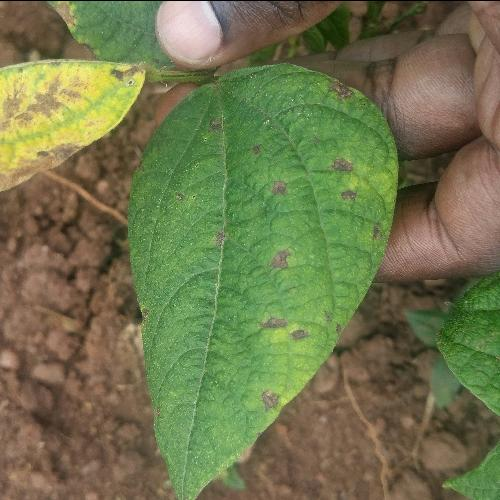embun tepung: (130, 126, 212, 293)
hawar: (180, 101, 422, 446)
mozaik: (0, 70, 147, 196)
